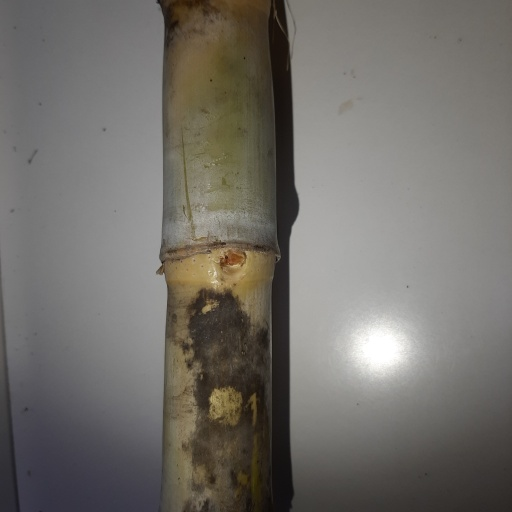Damage_Bud: (218, 249, 246, 279)
